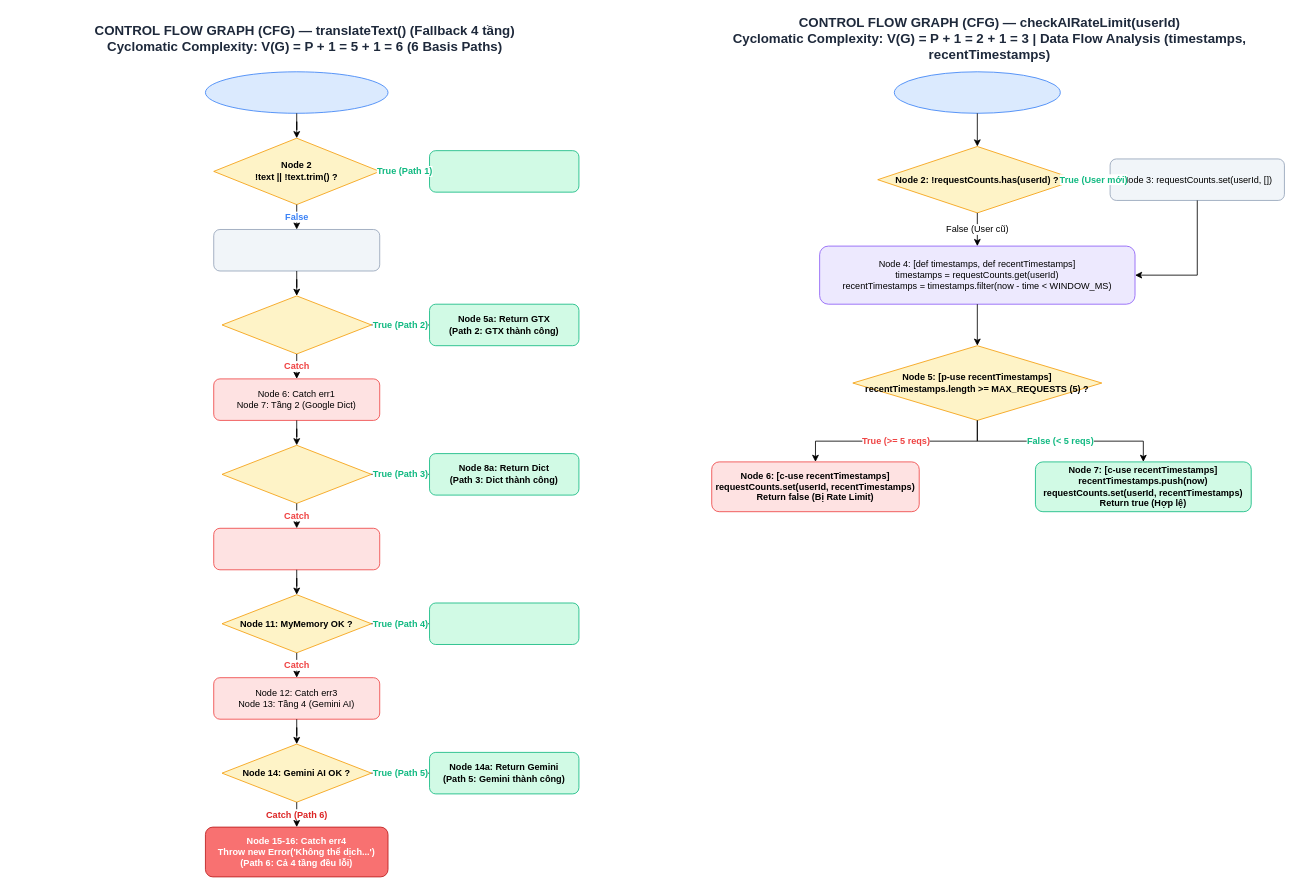
This 1315x891 diagram has some shape labels left out. The shapes that lost their labels are listed below. From the top down, each one's centre as x and y in pixels, then its label:
At (x=296, y=92): "Node 1: START translateText(text, targetLang)".
At (x=976, y=92): "Node 1: Entry now = Date.now()".
At (x=504, y=171): "Node 3: Return text (Path 1: Trả về nguyên bản)".
At (x=296, y=250): "Node 4: Tầng 1 (Google GTX) translateWithGoogleGtx()".
At (x=296, y=324): "Node 5: GTX Thành công ?".
At (x=296, y=473): "Node 8: Dict Thành công ?".
At (x=296, y=548): "Node 9: Catch err2 Node 10: Tầng 3 (MyMemory)".
At (x=504, y=623): "Node 11a: Return MyMemory (Path 4: MyMemory thành công)".
